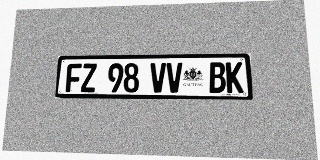8: (123, 63, 139, 92)
9: (108, 63, 124, 92)
B: (209, 62, 226, 93)
F: (66, 64, 82, 92)
K: (226, 62, 244, 93)
V: (150, 63, 166, 93), (166, 63, 182, 93)
Z: (81, 63, 97, 92)
